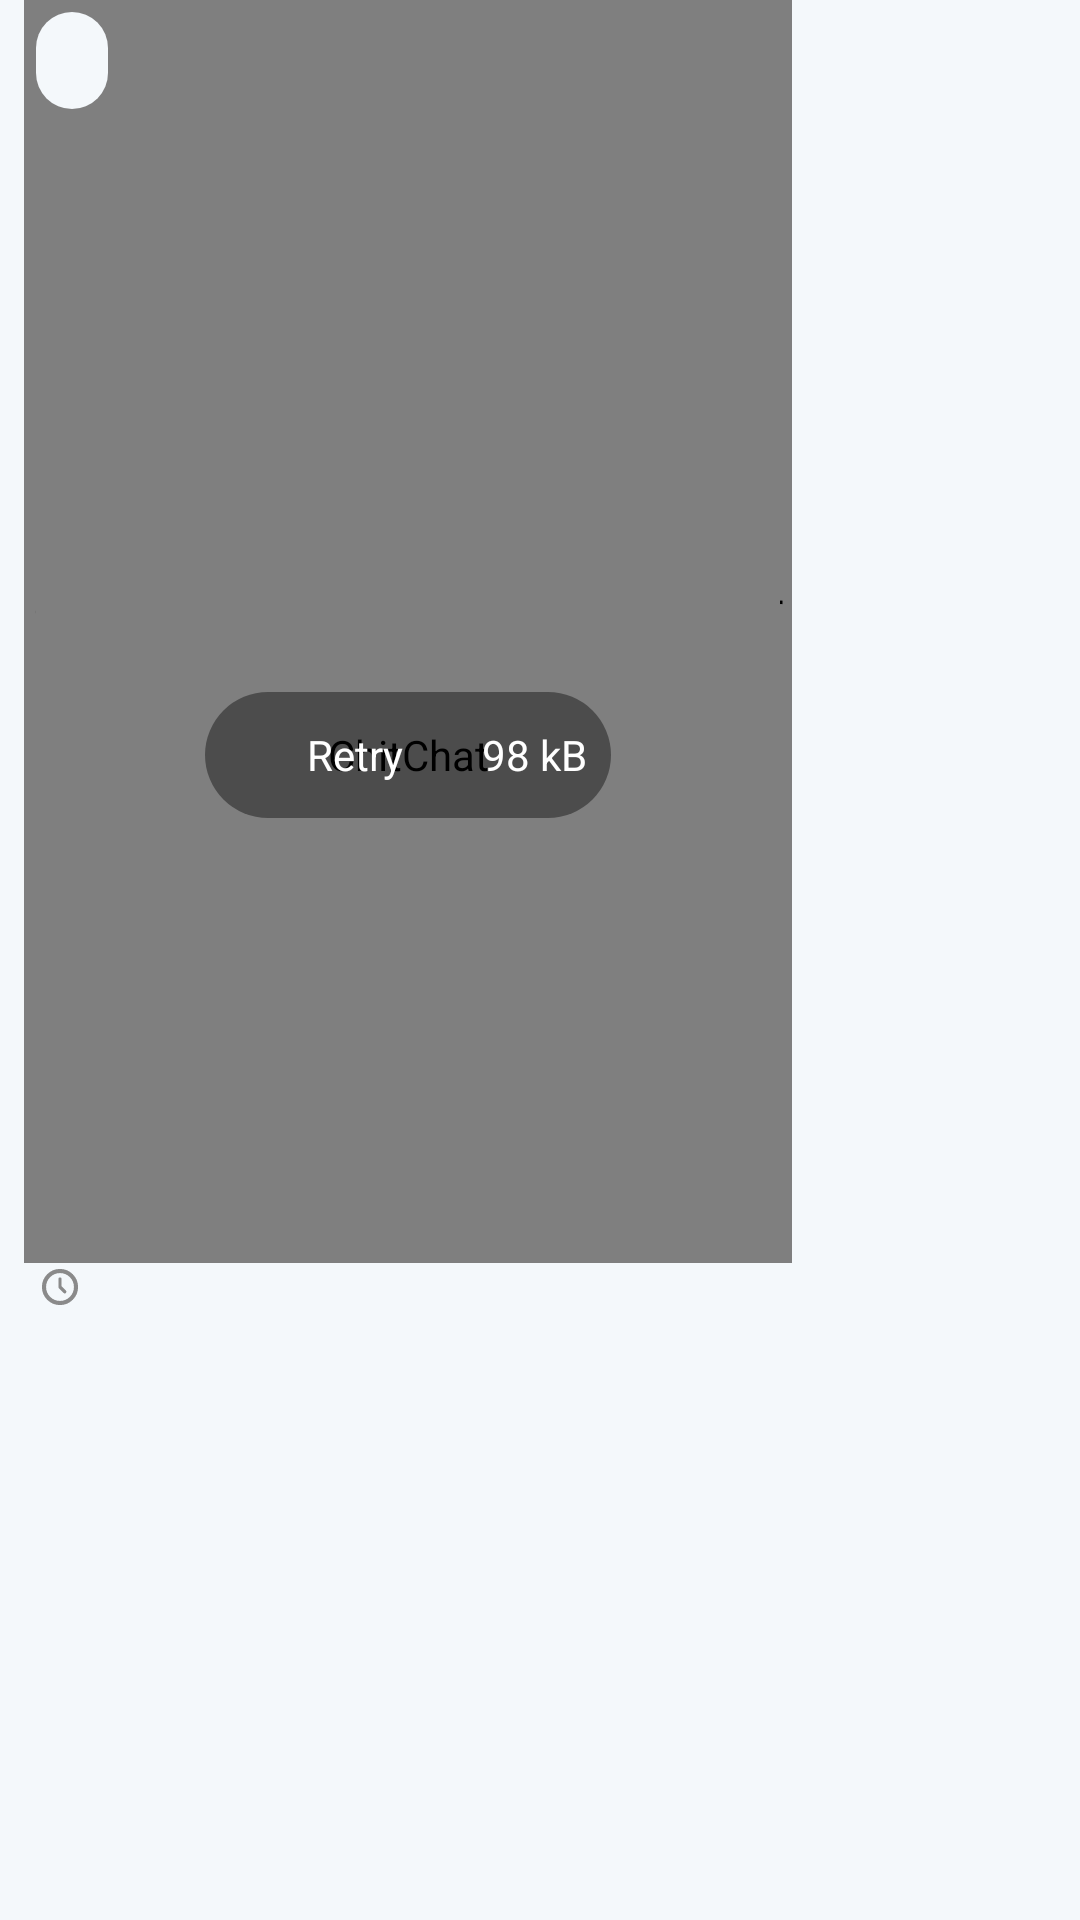

Named icons in this screenshot (1080 × 1920) and their bounding boxes, (x1, y1, x2, y2):
sending: (42, 1269, 78, 1305)
